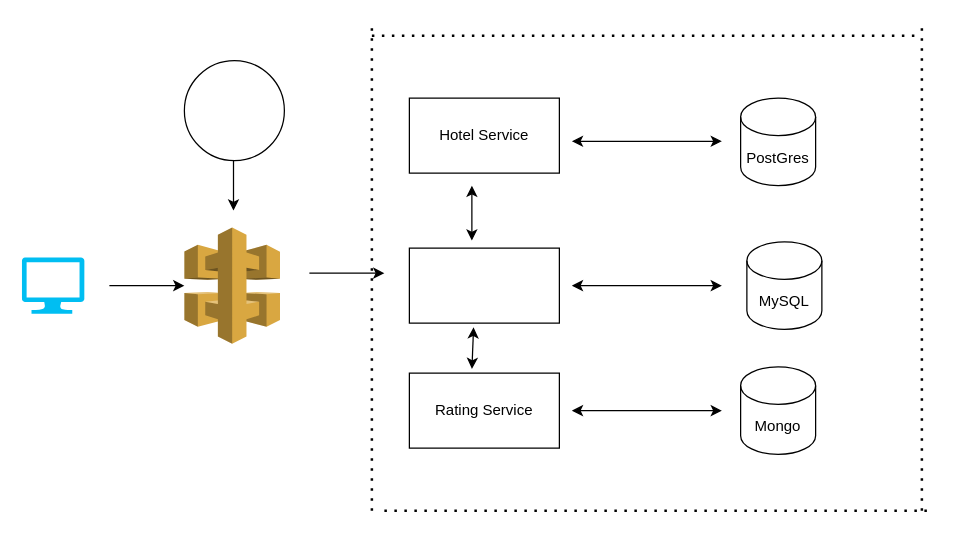
This 958x534 diagram has some shape labels left out. The centre of each missing label's shape, as x and y in pixels:
oKta Auth: the point at 233,110
User Service: the point at 483,285
